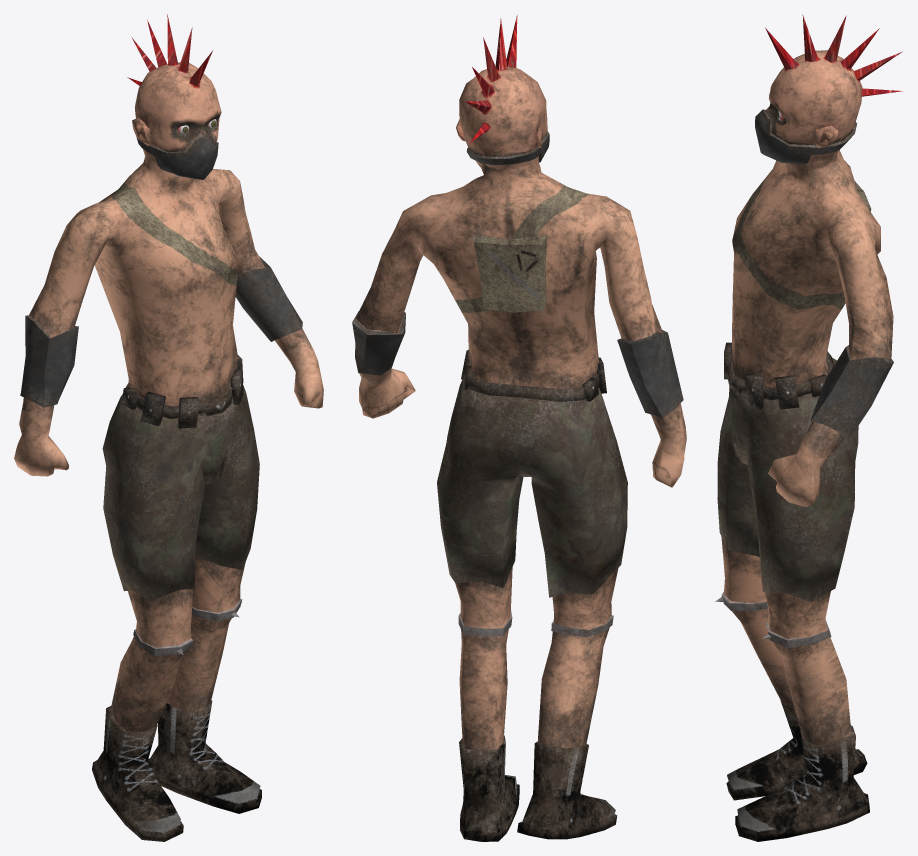
Rendered from Anim_disparar_pistola_npc2.0017.obj.
3 renders of one model, left to right at view 1: azimuth 30°, elevation 25°; view 2: azimuth 150°, elevation 25°; view 3: azimuth 270°, elevation 25°, orthographic. The views are drawn at different scales.
Visible parts, largest first — view 1: polySurface1; view 2: polySurface1; view 3: polySurface1.
Boxes of the visible parts, <box> form: polySurface1: <box>14,14,323,841</box>; polySurface1: <box>352,15,686,841</box>; polySurface1: <box>715,14,902,841</box>.
Size of the model in its own units: 4.23 by 10.18 by 2.15.
Materials: 2 (2 with a texture image).
